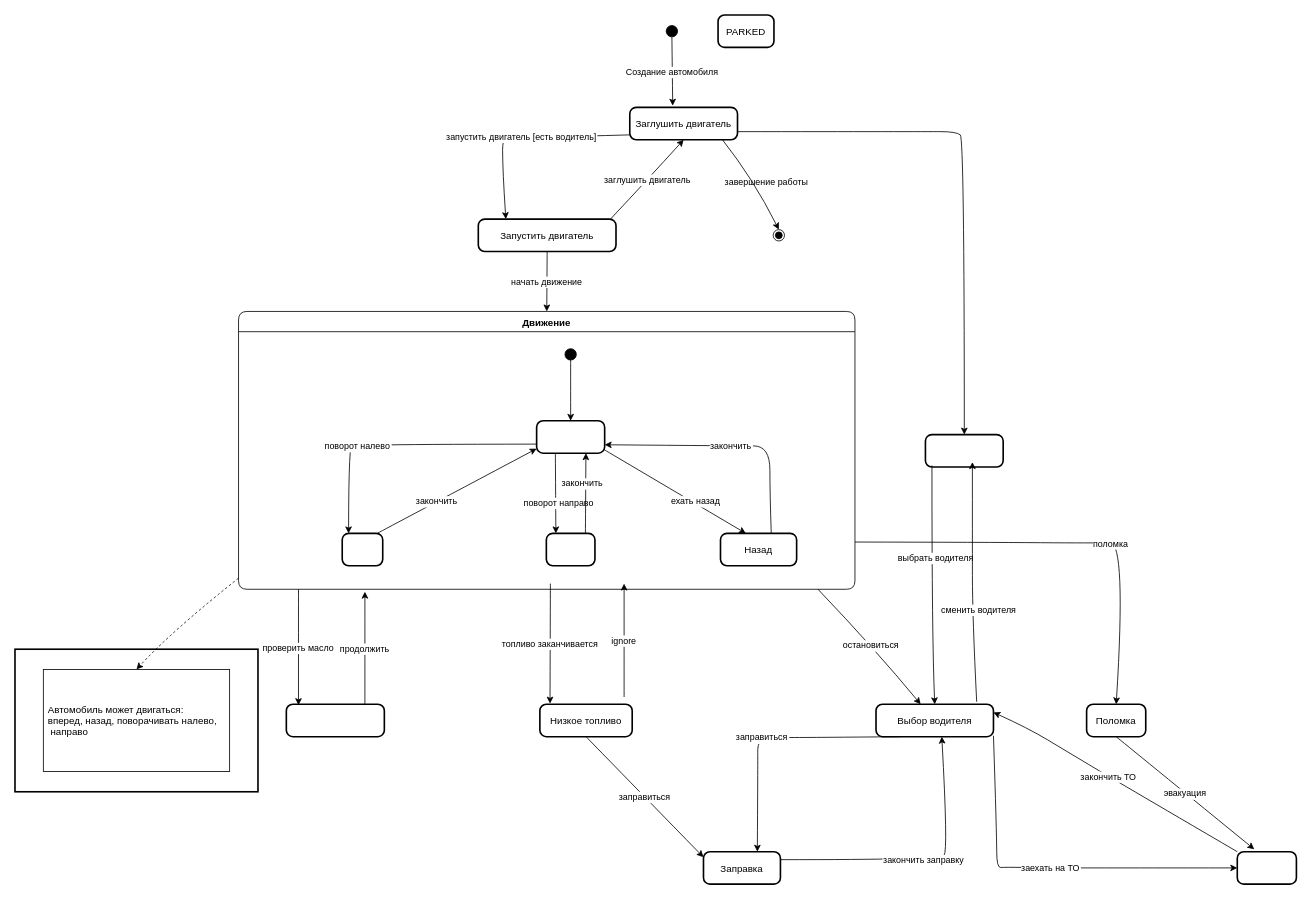
The diagram is 1311 pixels wide and 898 high, and some of its shapes have lost their labels. Here are the shapes that lost their labels. From the top down, the box of each, then its label:
(535, 420, 605, 454): Вперёд
(924, 433, 1004, 467): Нет водителя
(341, 532, 383, 566): Лево
(545, 532, 595, 566): Право
(285, 703, 385, 737): Проверка масла
(1236, 850, 1297, 885): Сервис
